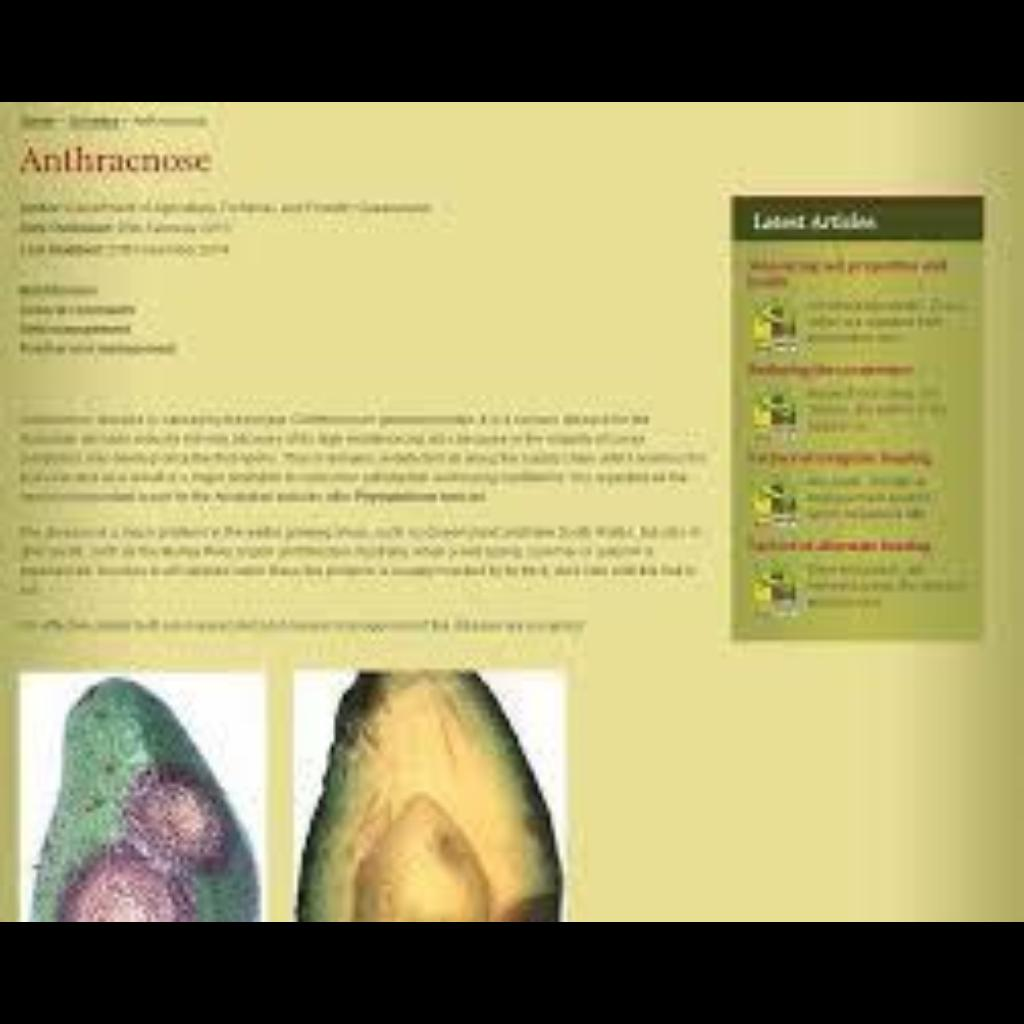Anthracnose: (6, 678, 276, 918), (314, 670, 568, 922)
